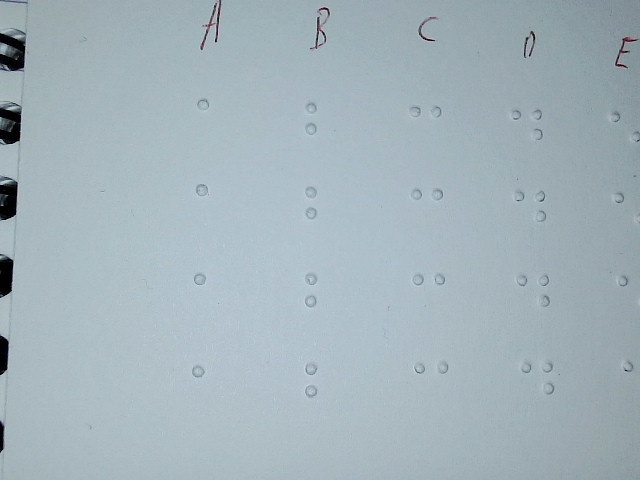A: (188, 93, 238, 164), (189, 178, 239, 249), (187, 266, 237, 337), (185, 358, 235, 429)
B: (297, 95, 344, 162), (297, 179, 344, 246), (298, 268, 345, 335), (299, 357, 346, 424)
C: (402, 99, 452, 169), (402, 182, 452, 252), (404, 265, 454, 335), (406, 354, 456, 424)
